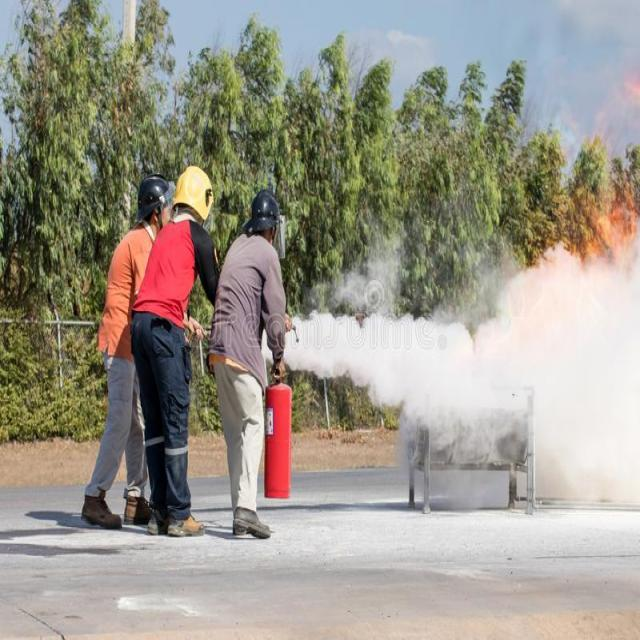fire_extinguisher: (256, 313, 309, 496)
